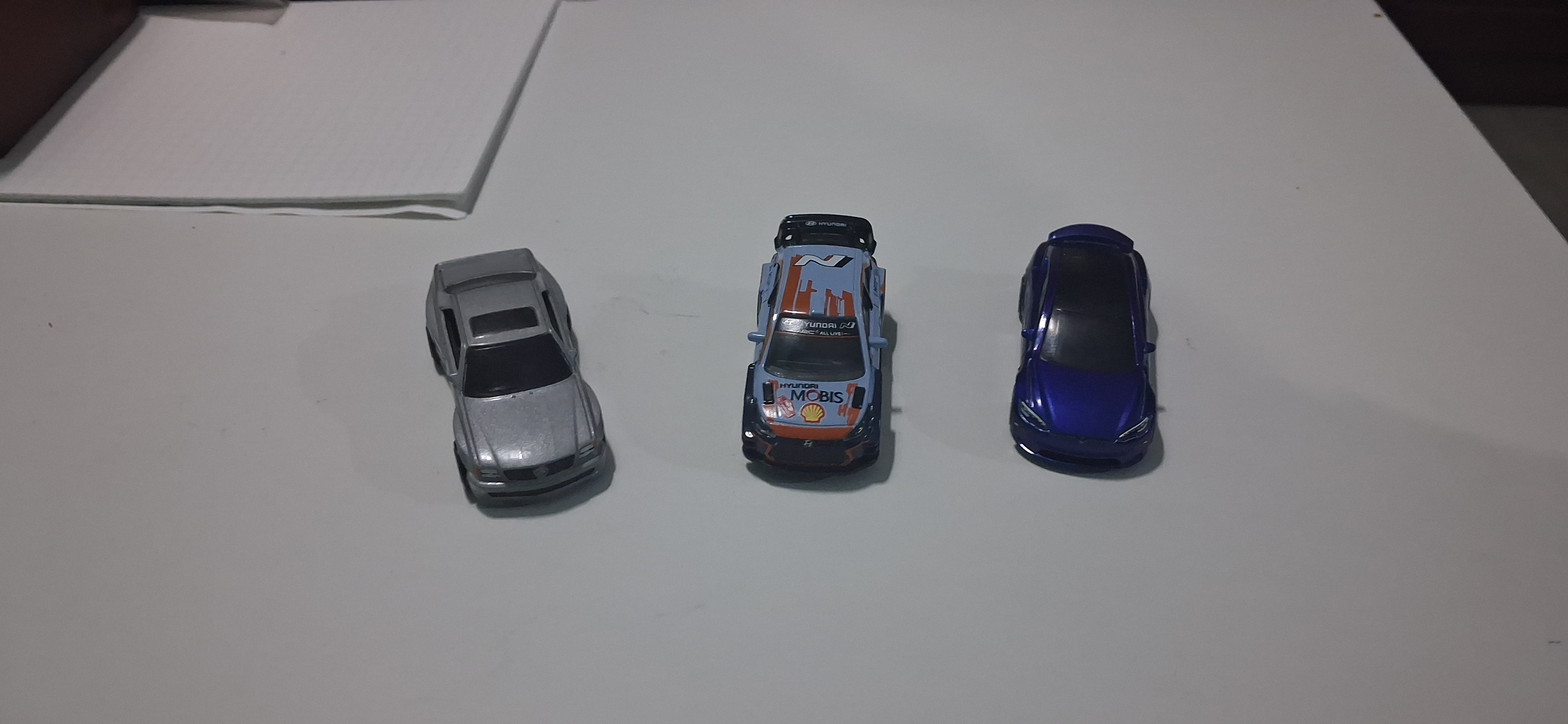Hyundai_I20_WRC: (718, 180, 913, 513)
Mercedes_Benz_560_SEC_AMG: (376, 220, 651, 545)
Tesla_Model_S_Plaid: (975, 191, 1214, 526)
